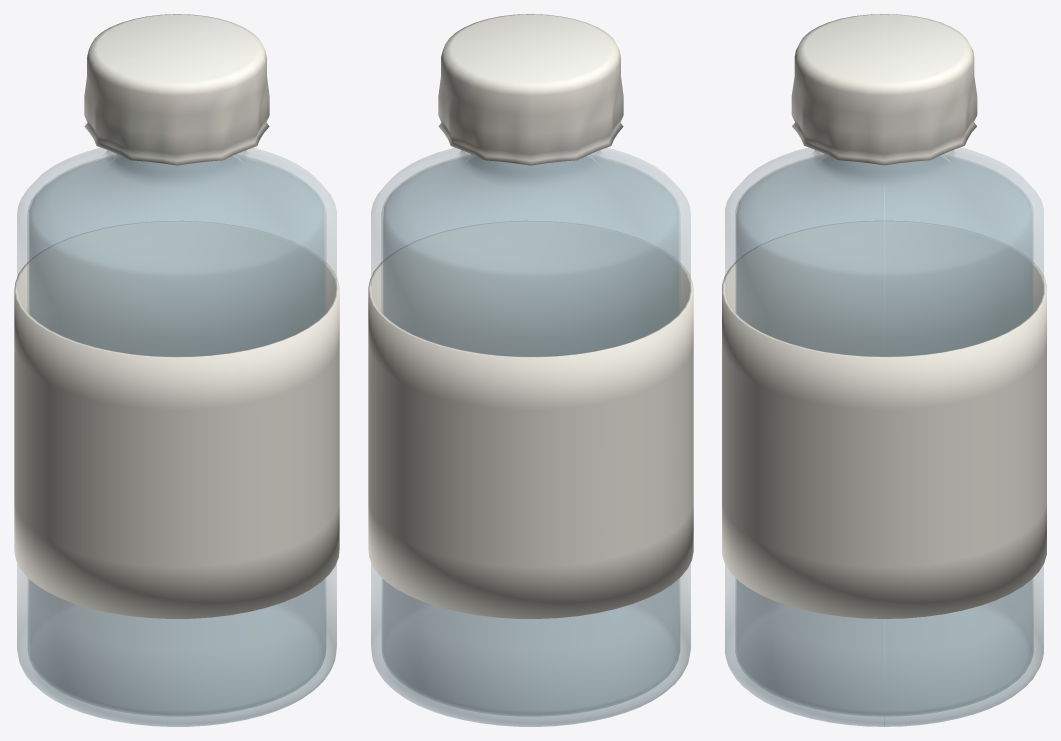
Rendered from reagent-bottle-500ml.glb.
3 renders of one model, left to right at view 1: azimuth 30°, elevation 25°; view 2: azimuth 150°, elevation 25°; view 3: azimuth 270°, elevation 25°, orthographic.
Visible parts, largest first — view 1: reagent-bottle-500ml-label, reagent-bottle-500ml-glass, reagent-bottle-500ml-inner, reagent-bottle-500ml-cap; view 2: reagent-bottle-500ml-label, reagent-bottle-500ml-glass, reagent-bottle-500ml-inner, reagent-bottle-500ml-cap; view 3: reagent-bottle-500ml-label, reagent-bottle-500ml-glass, reagent-bottle-500ml-inner, reagent-bottle-500ml-cap.
Part boxes in pixels (x1,y1,x2,y2): reagent-bottle-500ml-label: [14, 221, 339, 618]; reagent-bottle-500ml-glass: [17, 148, 336, 726]; reagent-bottle-500ml-inner: [29, 156, 324, 714]; reagent-bottle-500ml-cap: [84, 14, 269, 165]; reagent-bottle-500ml-label: [368, 221, 693, 618]; reagent-bottle-500ml-glass: [371, 148, 690, 726]; reagent-bottle-500ml-inner: [383, 156, 678, 714]; reagent-bottle-500ml-cap: [438, 14, 623, 165]; reagent-bottle-500ml-label: [722, 221, 1046, 618]; reagent-bottle-500ml-glass: [725, 147, 1043, 726]; reagent-bottle-500ml-inner: [736, 156, 1032, 714]; reagent-bottle-500ml-cap: [791, 14, 977, 165].
Size of what is drawn, in the model's own units: 8.14 by 17.05 by 8.12.
